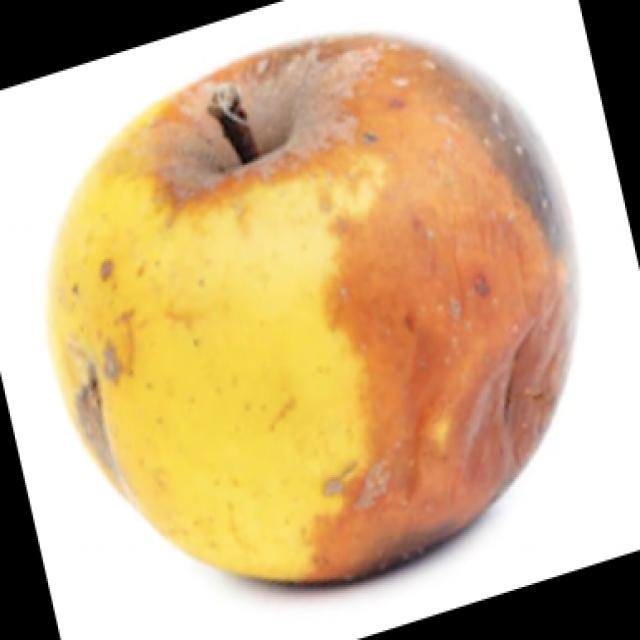Rotten: (94, 50, 544, 572)
